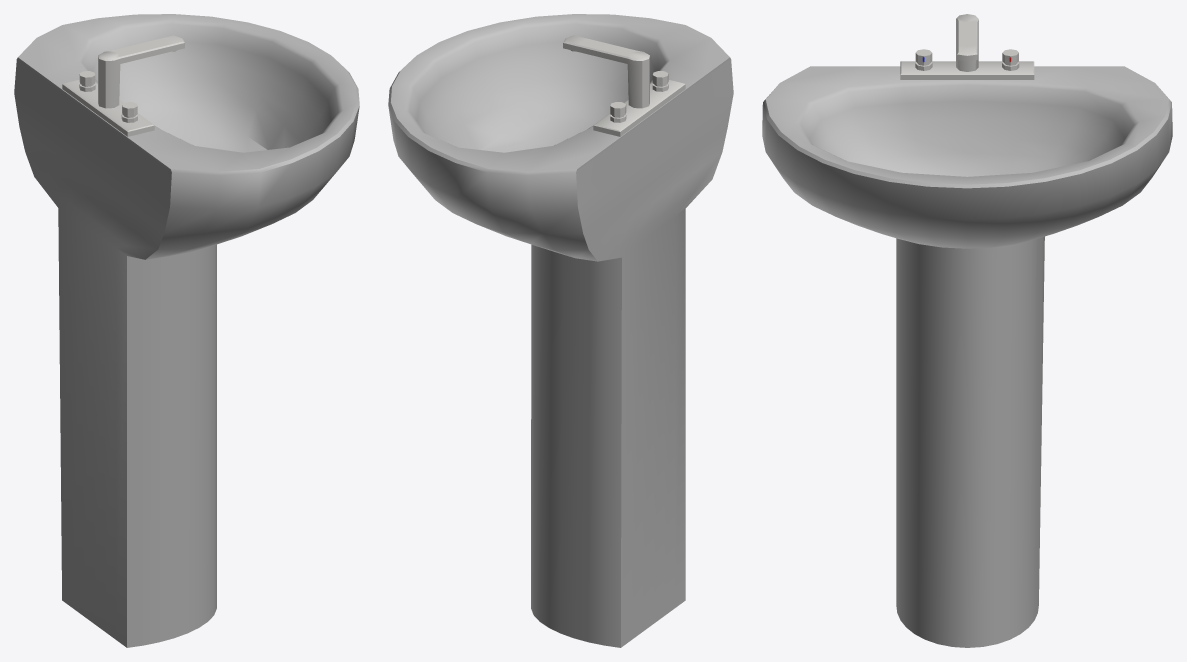
Rendered from bathroomSink.glb.
3 renders of one model, left to right at view 1: azimuth 30°, elevation 25°; view 2: azimuth 150°, elevation 25°; view 3: azimuth 270°, elevation 25°, orthographic. The views are drawn at different scales.
Visible parts, largest first — view 1: Circle; view 2: Circle; view 3: Circle.
Part boxes in pixels (x1,y1,x2,y2): Circle: (14, 14, 359, 647); Circle: (388, 14, 733, 647); Circle: (762, 14, 1172, 647).
Size of the model in its own units: 0.3793 by 0.8435 by 0.5416.
1 material, 1 textured.
